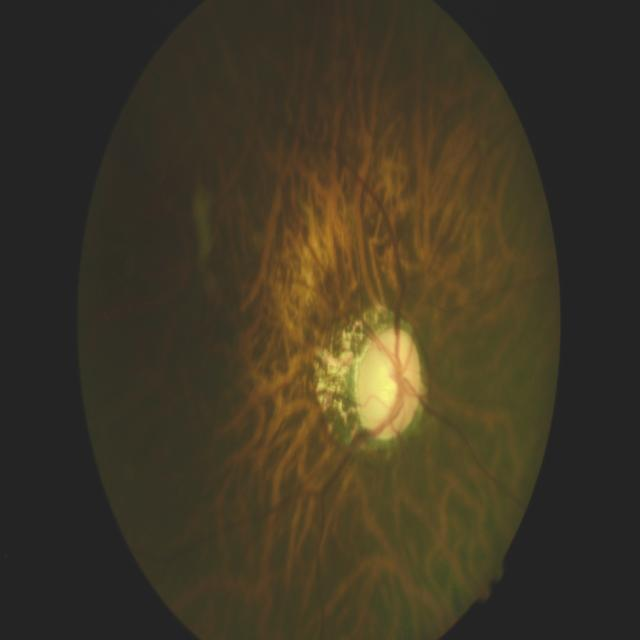cup: (364, 336, 415, 434)
disk: (355, 328, 421, 442)
